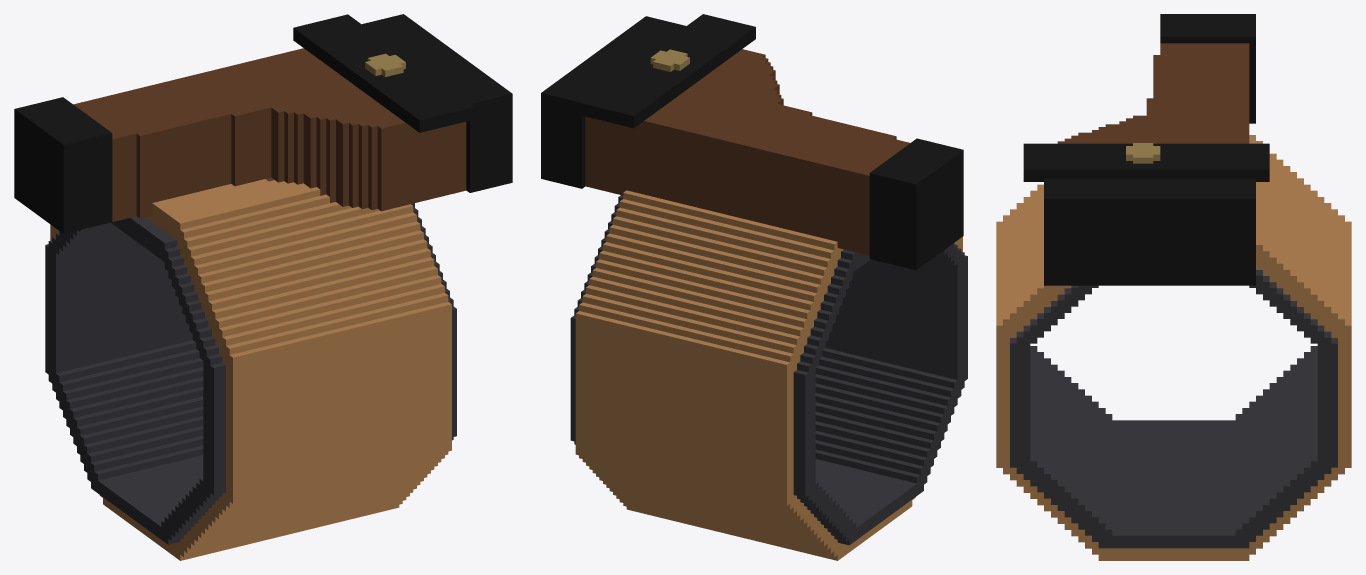
The model's file is bootstrap.glb.
3 views of the same model, side by side, from view 1: azimuth 30°, elevation 25°; view 2: azimuth 150°, elevation 25°; view 3: azimuth 270°, elevation 25° (orthographic). The views are drawn at different scales.
Visible parts, largest first — view 1: bootstrap:compound; view 2: bootstrap:compound; view 3: bootstrap:compound.
Part boxes in pixels (bbox=[...]): bootstrap:compound: bbox=[14, 14, 512, 560]; bootstrap:compound: bbox=[541, 14, 967, 560]; bootstrap:compound: bbox=[996, 14, 1351, 560].
Bounding box in the file's own units: 0.128 × 0.134 × 0.104.
